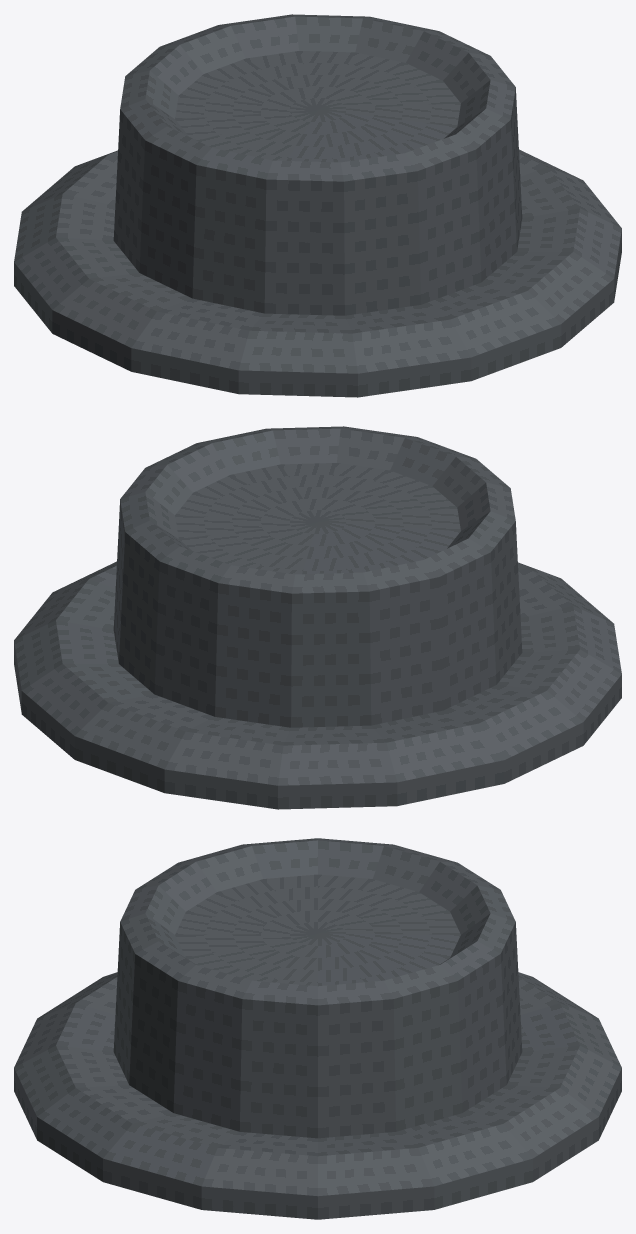
Rendered from porkpie.glb.
The picture shows the model from 3 angles, top to bottom: view 1: azimuth 30°, elevation 25°; view 2: azimuth 150°, elevation 25°; view 3: azimuth 270°, elevation 25°; orthographic projection.
Parts seen in each view (by area): view 1: block_shaped hat crown and brim; view 2: block_shaped hat crown and brim; view 3: block_shaped hat crown and brim.
Boxes of the visible parts, x1,y1,x2,y2 form: block_shaped hat crown and brim: (14,14,621,397); block_shaped hat crown and brim: (14,426,621,809); block_shaped hat crown and brim: (14,838,621,1219).
Size of the model in its own units: 0.2715 by 0.0877 by 0.2715.
Materials: 1 (1 with a texture image).
